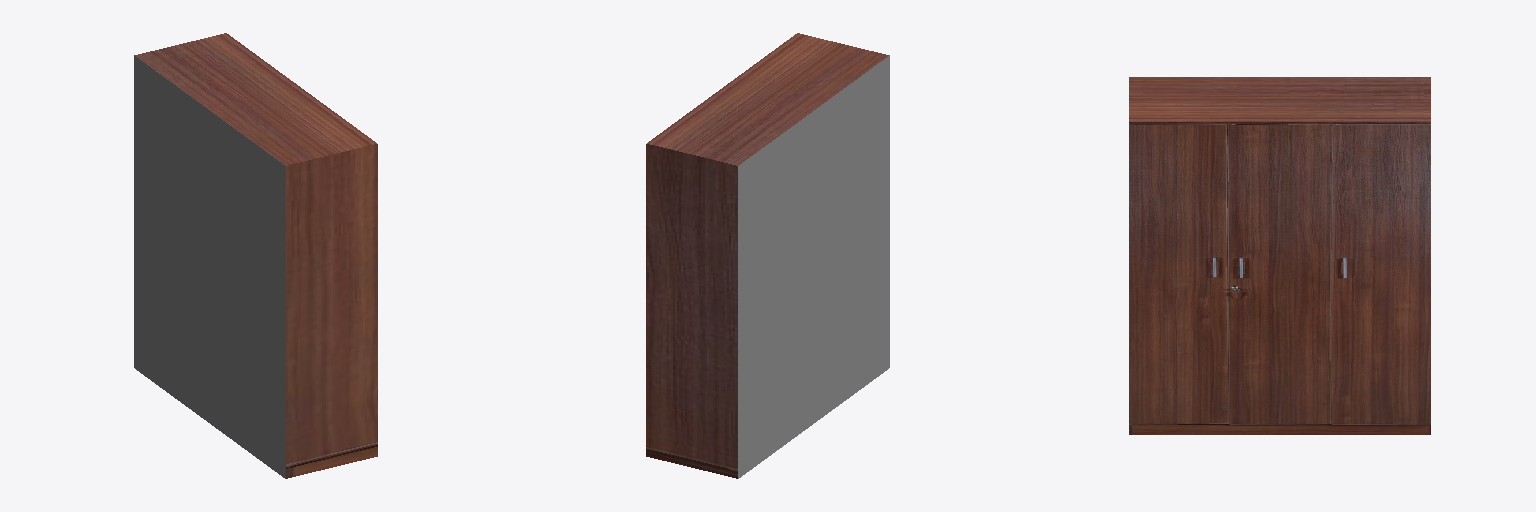
The picture shows the model from 3 angles: view 1: azimuth 30°, elevation 25°; view 2: azimuth 150°, elevation 25°; view 3: azimuth 270°, elevation 25°; orthographic projection.
Visible parts, largest first — view 1: Cube.003; view 2: Cube.003; view 3: Cube.003.
Part boxes in pixels (x1,y1,x2,y2): Cube.003: (134,33,377,478); Cube.003: (646,33,889,478); Cube.003: (1129,77,1430,434).
Bounding box in the file's own units: 1.19 × 3.87 × 3.39.
2 materials, 1 textured.